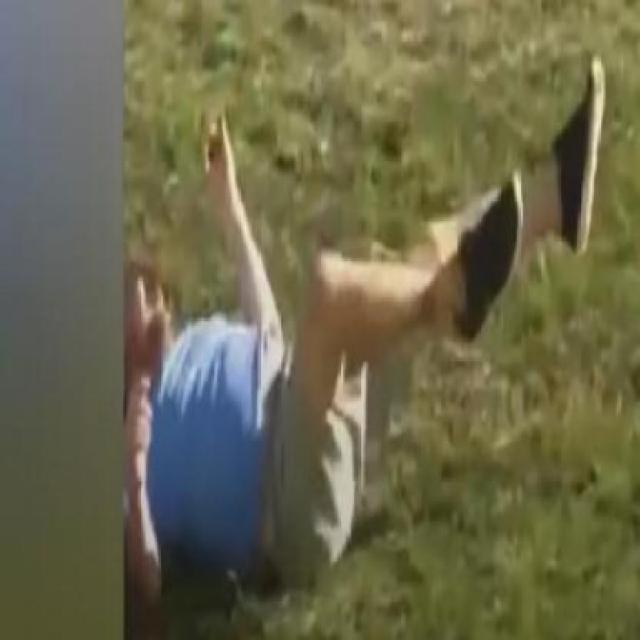fall: (124, 56, 607, 596)
